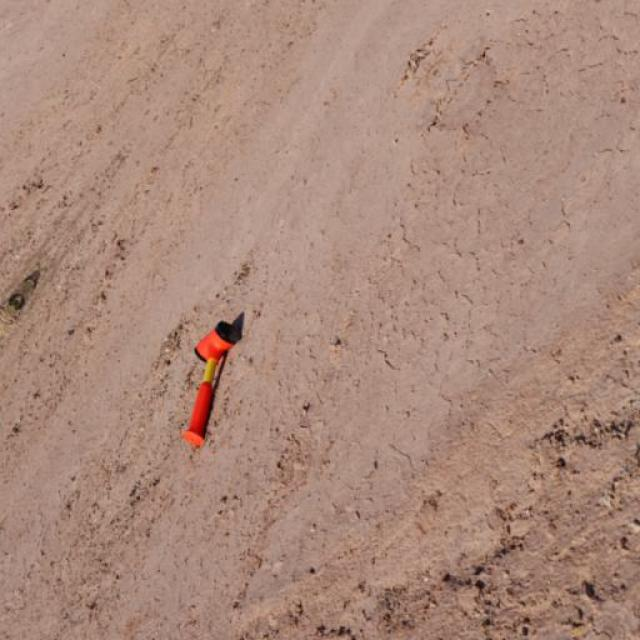mallet: (180, 319, 242, 449)
